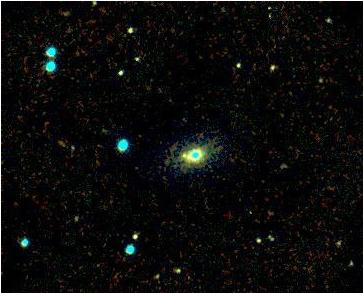star: (169, 138, 199, 168)
